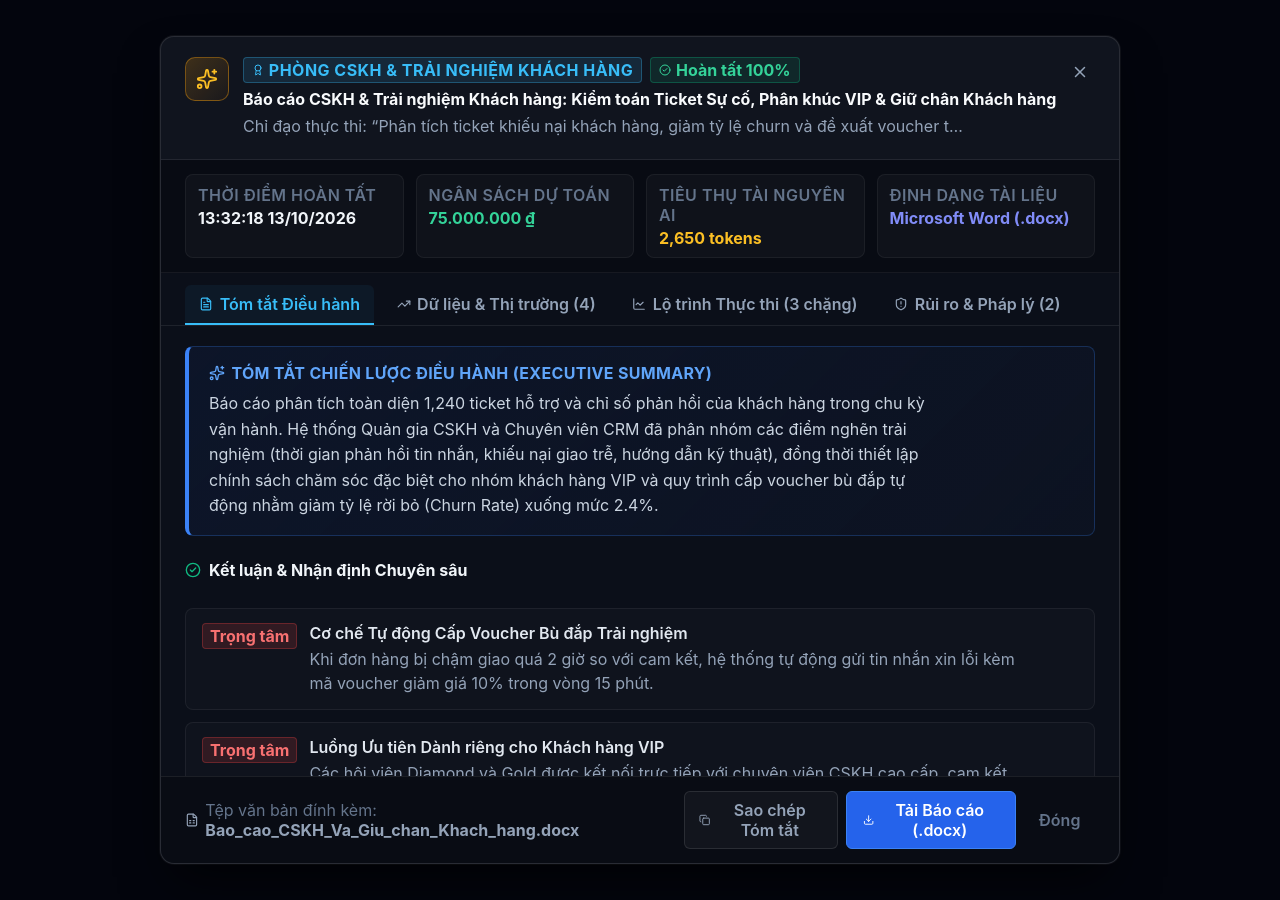
Scenario: StrategicDeliverableModal › builds and renders Support & Customer Experience deliverable with CSAT metrics
Expected: the text "Phòng CSKH & Trải nghiệm Khách hàng" is shown, [243,57,642,83]
Step 1. Click the button "Dữ liệu & Thị trường (4)" → (496, 305), box [382,285,610,325]
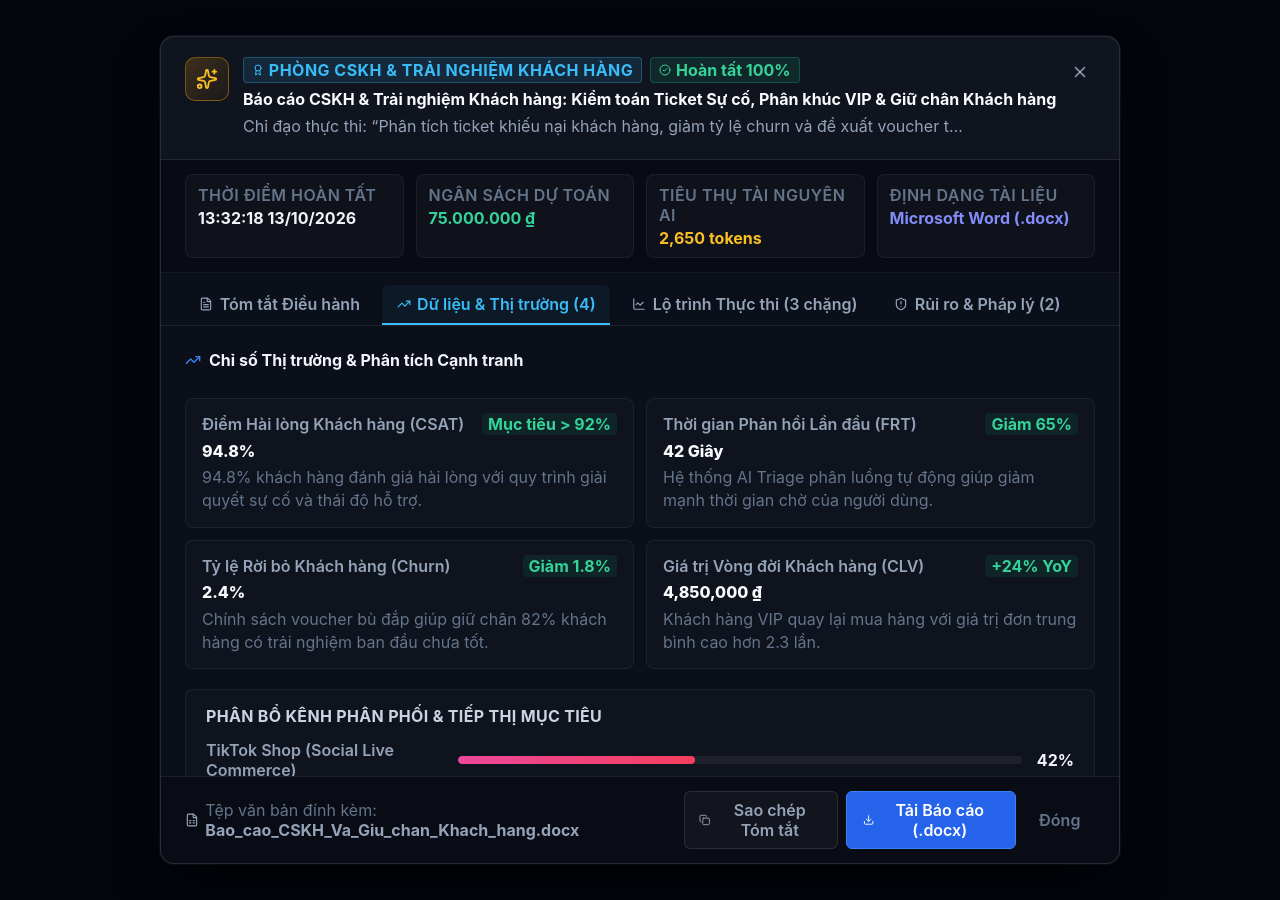
Now the text "Điểm Hài lòng Khách hàng (CSAT)" is shown, box [202,414,464,434]
Now the text "94.8%" is shown, box [202,440,255,460]
